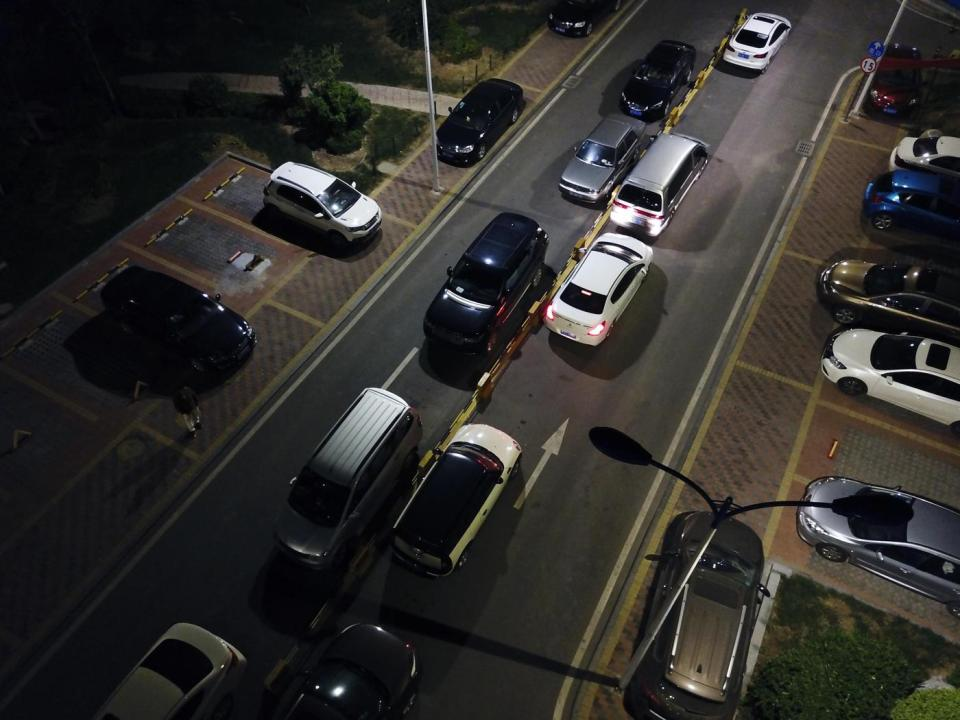car: (629, 509, 771, 720), (796, 476, 960, 624), (390, 424, 523, 577), (423, 211, 549, 357), (76, 621, 246, 720), (102, 266, 257, 374), (819, 325, 960, 439), (271, 621, 424, 720), (817, 257, 960, 355), (544, 232, 653, 347), (263, 161, 383, 247), (558, 112, 646, 206), (862, 168, 960, 250), (434, 77, 523, 166), (620, 40, 697, 118), (862, 42, 922, 118), (722, 12, 792, 74), (887, 135, 960, 181), (546, 0, 622, 40)
van: (272, 387, 424, 572), (609, 132, 708, 236)
